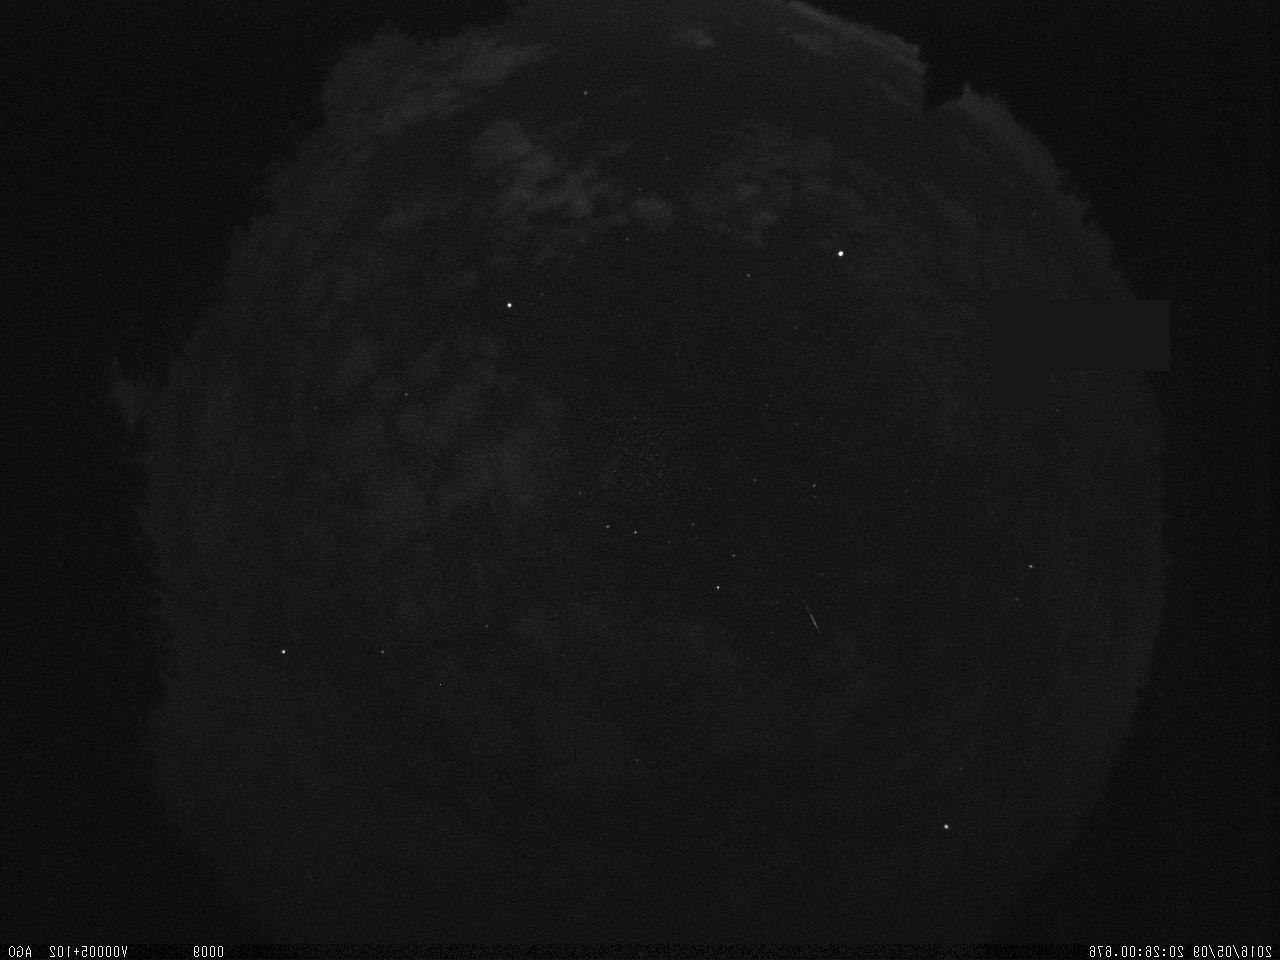meteor: (796, 593, 823, 638)
